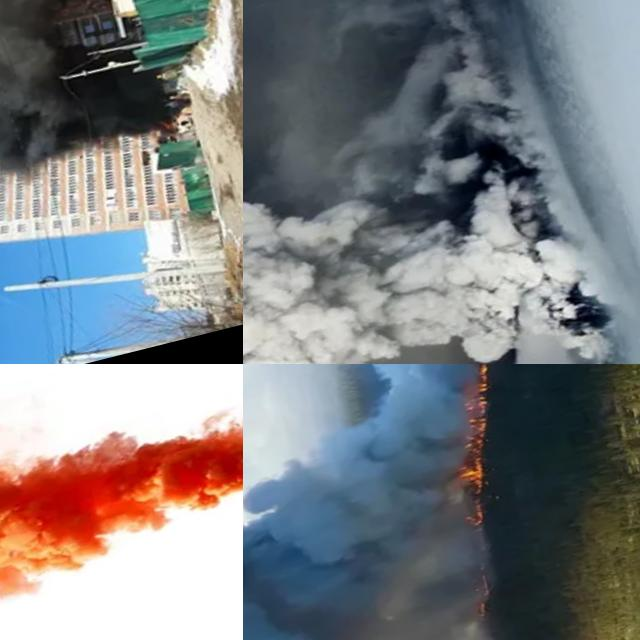smoke: (243, 43, 570, 364), (243, 364, 611, 640), (0, 364, 243, 640), (0, 0, 164, 237)
